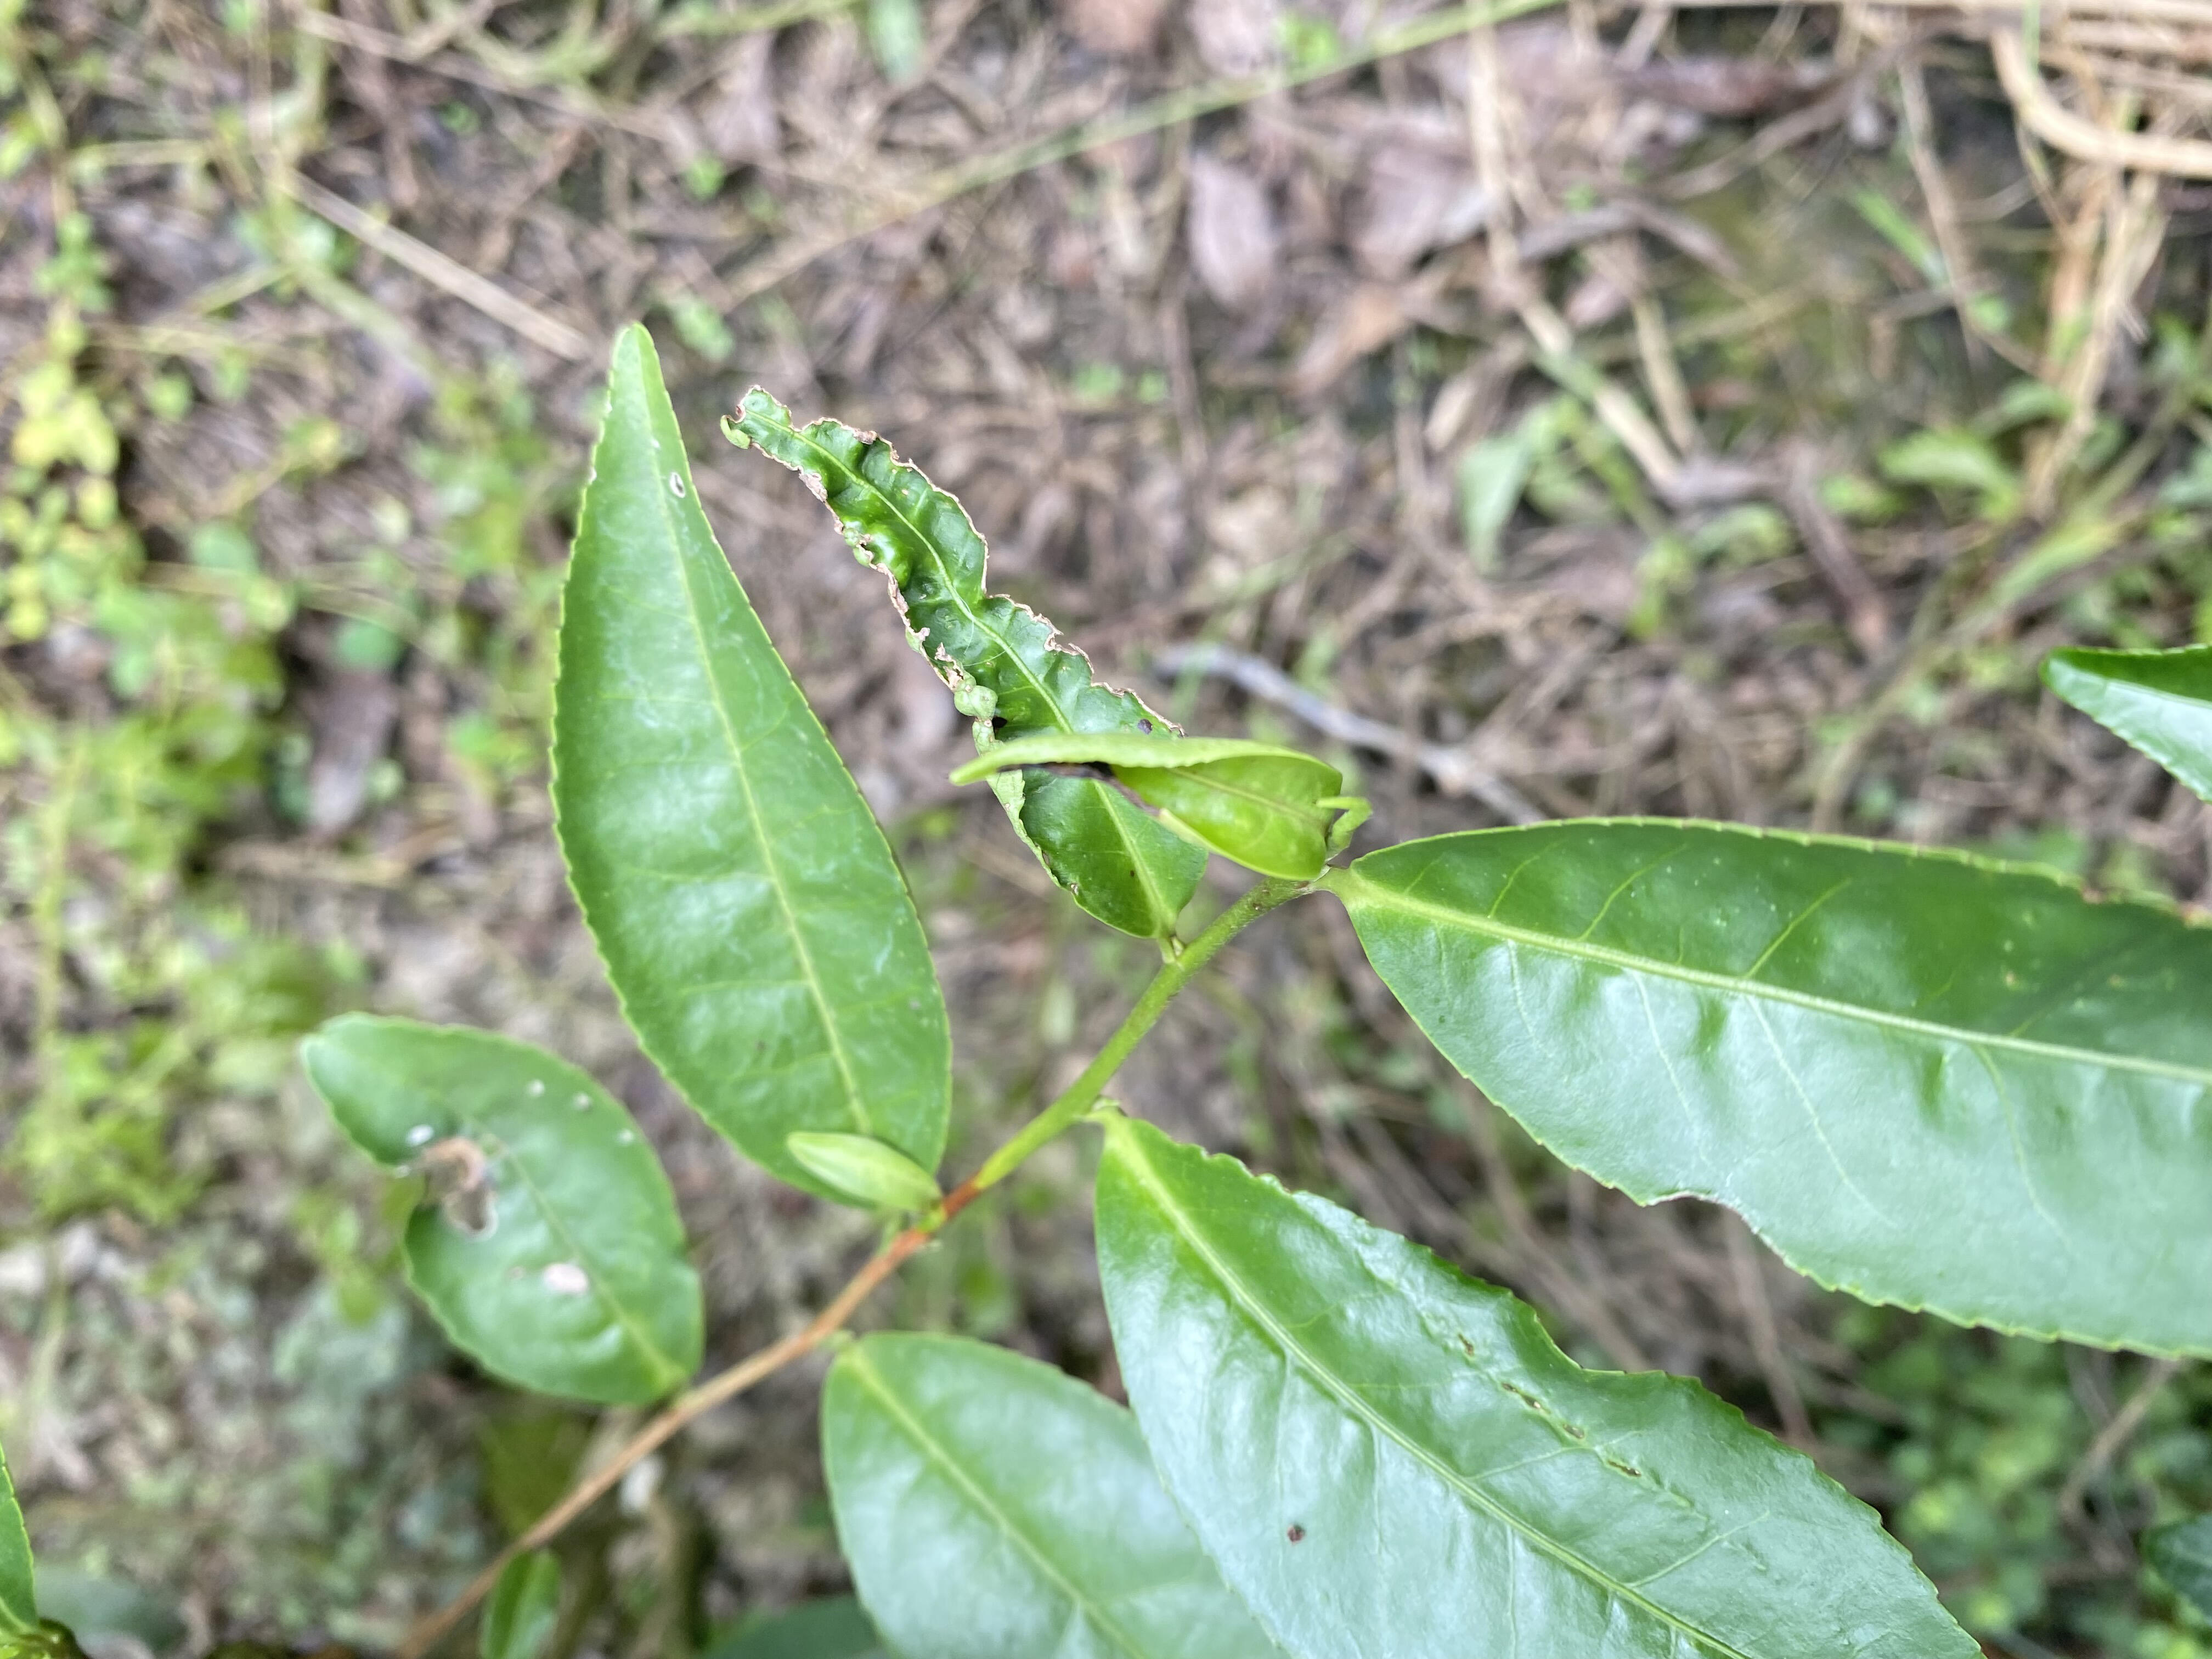chihuo_high: (714, 383, 1209, 941)
chihuo_low: (1350, 812, 2212, 1364)
